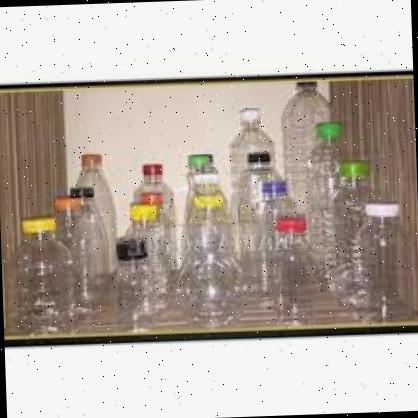bottle: (7, 203, 66, 349), (326, 162, 378, 318), (244, 177, 300, 315), (180, 174, 232, 316), (124, 158, 170, 296), (46, 199, 86, 324), (74, 188, 105, 297)
cap: (325, 158, 378, 188), (15, 211, 58, 240), (362, 198, 401, 223), (274, 213, 308, 235), (238, 104, 263, 128), (78, 150, 104, 172), (318, 119, 344, 140), (244, 148, 274, 164), (186, 152, 214, 169)
